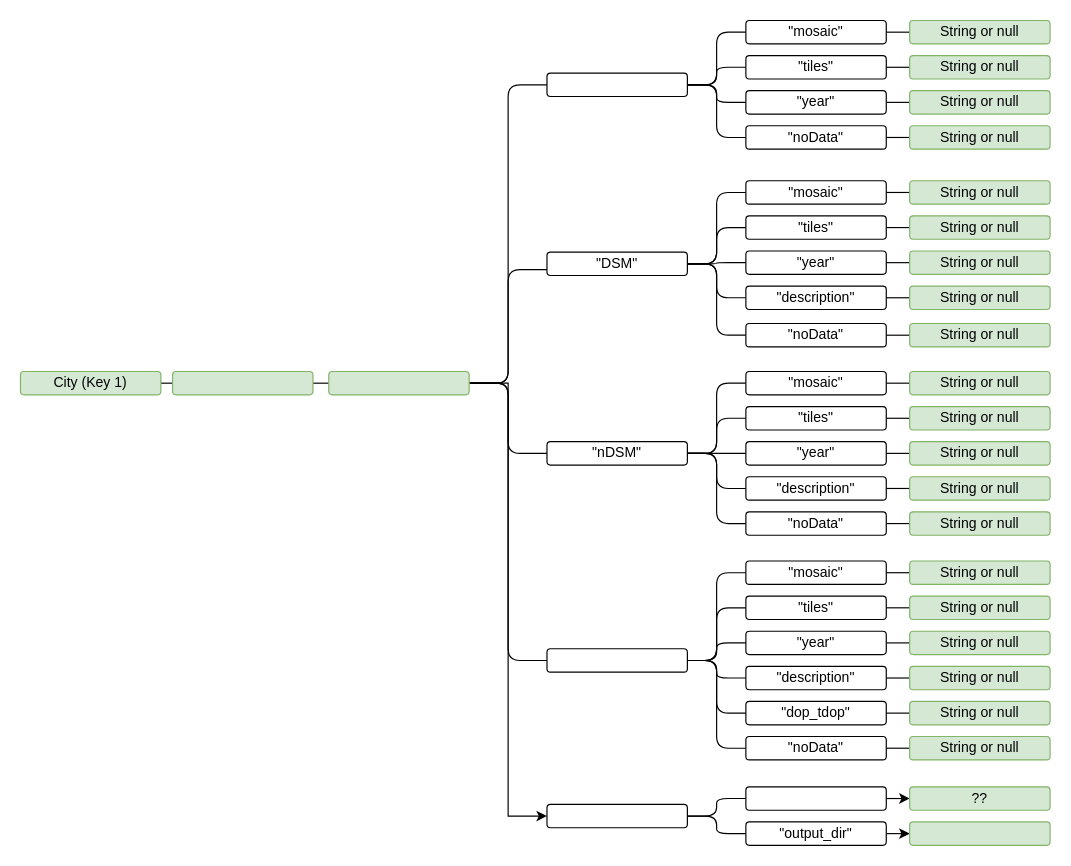
Image size: 1071x866. Some labels were removed from this diagram. Each missing label, with the box of its shape:
"DTM": (546, 72, 687, 97)
"METADATA": (546, 803, 687, 828)
"Ortho": (546, 648, 687, 672)
"README_name": (745, 786, 886, 810)
Description (Key 3): (328, 370, 469, 395)
String: (909, 821, 1050, 845)
Year (Key 2): (171, 370, 313, 395)
